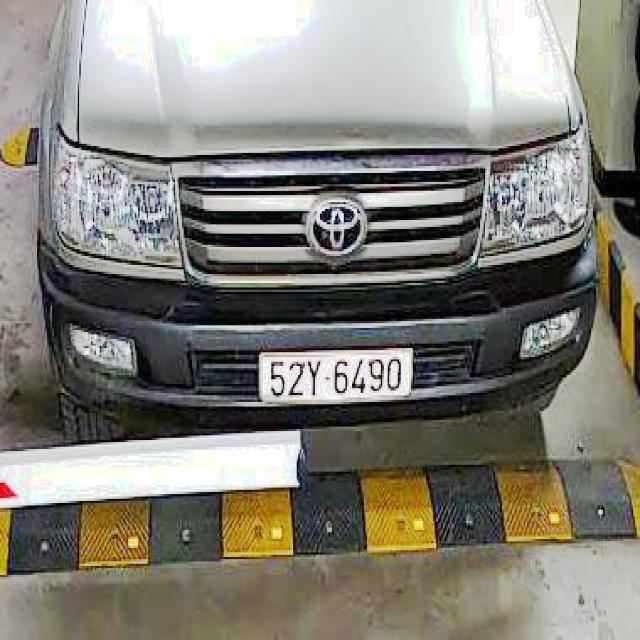license_plate: (262, 352, 413, 402)
